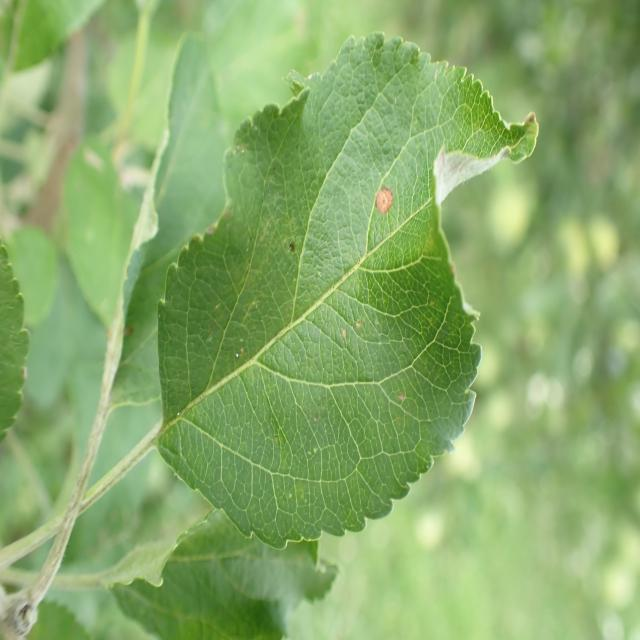Black Rot: (367, 184, 409, 223)
